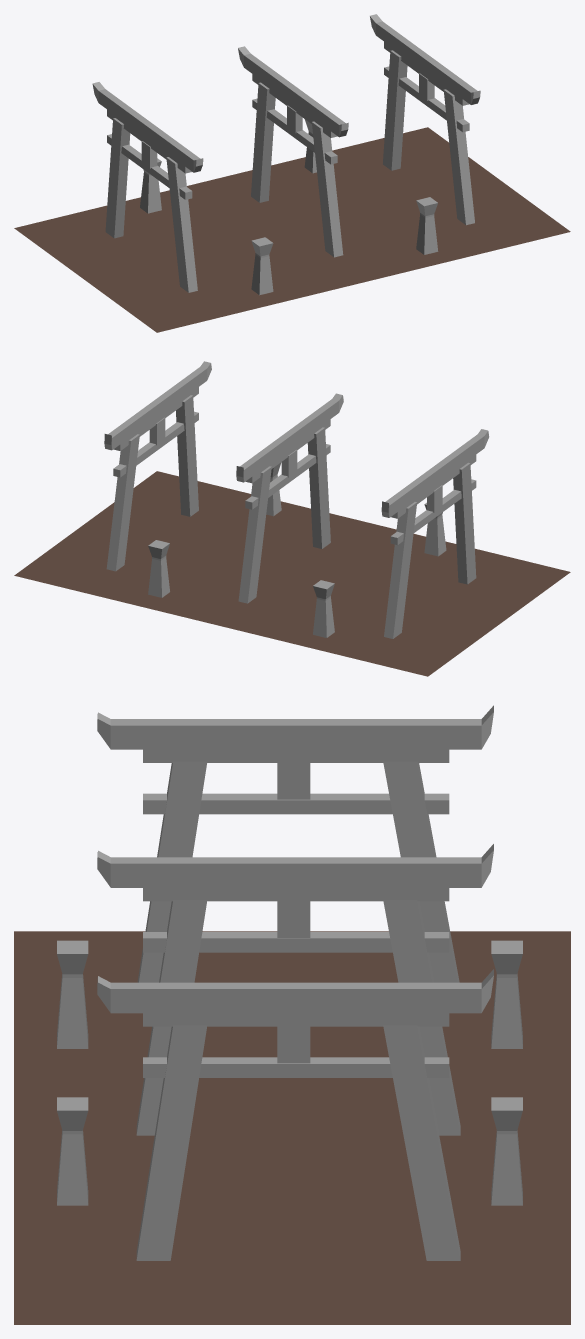
File: temple.fbx
The picture shows the model from 3 angles, top to bottom: view 1: azimuth 30°, elevation 25°; view 2: azimuth 150°, elevation 25°; view 3: azimuth 270°, elevation 25°; orthographic projection. The views are drawn at different scales.
Visible parts, largest first — view 1: temple; view 2: temple; view 3: temple.
Boxes of the visible parts, bbox=[...] form: temple: bbox=[14, 14, 570, 332]; temple: bbox=[14, 361, 570, 676]; temple: bbox=[14, 705, 570, 1324].
Bounding box in the file's own units: 1663 × 556 × 995.
